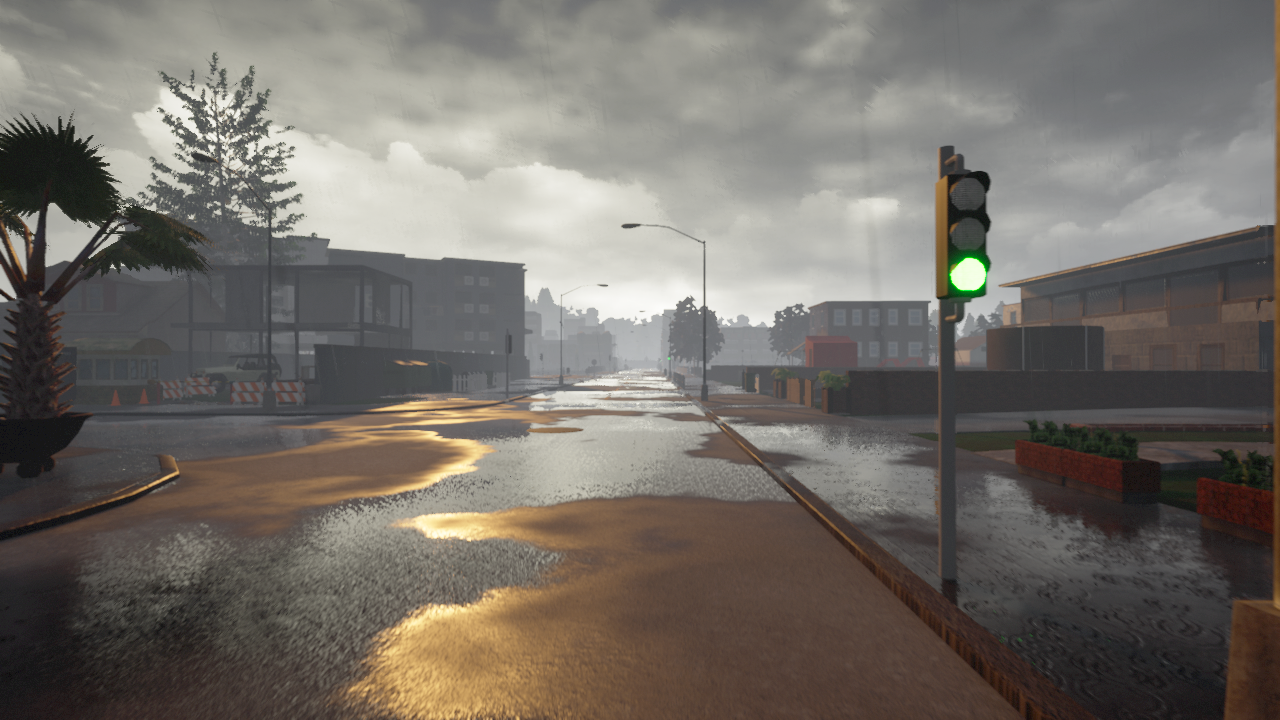green: (935, 164, 989, 298)
